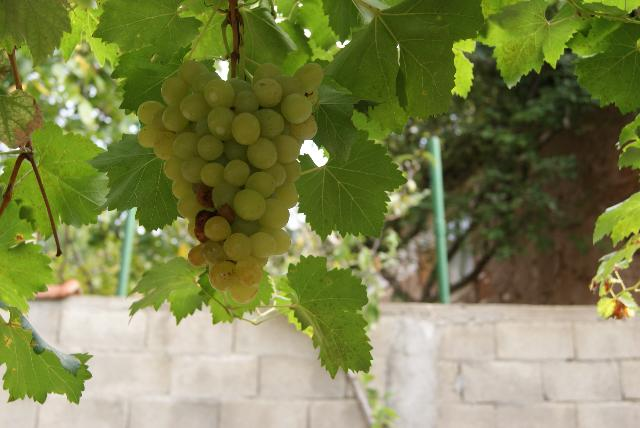grapes: (138, 60, 322, 302)
